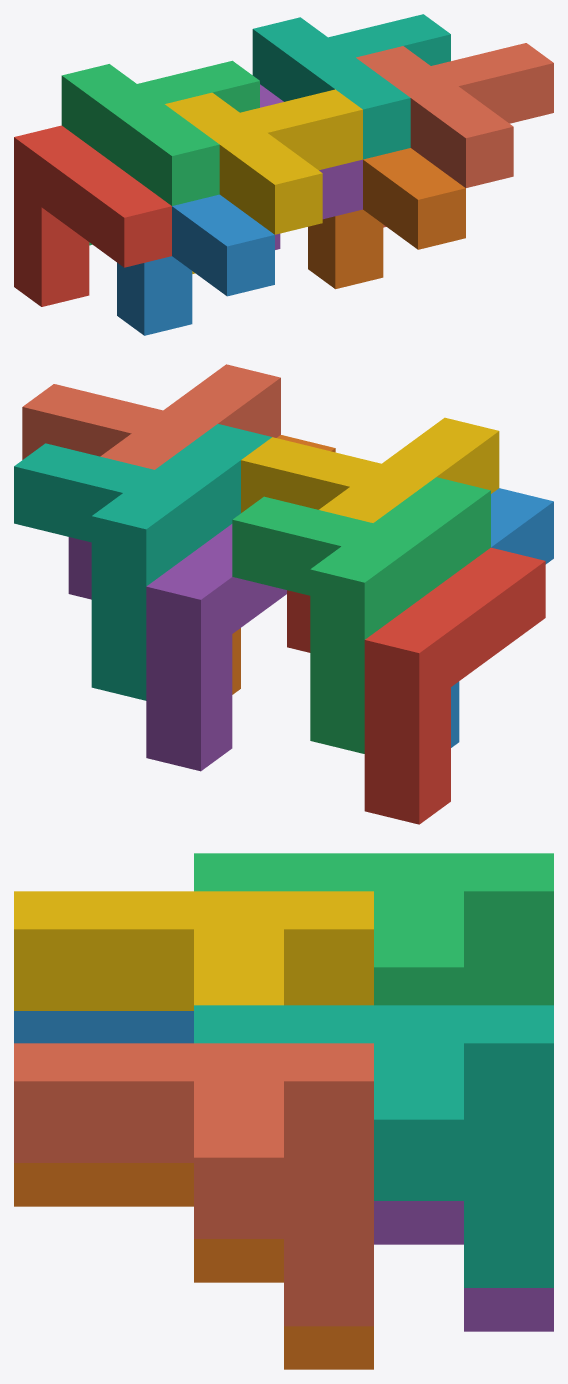
File: tiling.obj
3 renders of one model, top to bottom at view 1: azimuth 30°, elevation 25°; view 2: azimuth 150°, elevation 25°; view 3: azimuth 270°, elevation 25°, orthographic. The views are drawn at different scales.
Visible parts, largest first — view 1: copy_1_domain_1, copy_1_domain_3, copy_1_domain_8, copy_1_domain_4, copy_1_domain_7, copy_1_domain_2, copy_1_domain_6, copy_1_domain_5; view 2: copy_1_domain_3, copy_1_domain_7, copy_1_domain_1, copy_1_domain_5, copy_1_domain_4, copy_1_domain_8, copy_1_domain_2, copy_1_domain_6; view 3: copy_1_domain_8, copy_1_domain_7, copy_1_domain_4, copy_1_domain_3, copy_1_domain_6, copy_1_domain_5, copy_1_domain_2.
Part boxes in pixels (x1,y1,x2,y2): copy_1_domain_1: (14,125,171,306); copy_1_domain_3: (61,60,259,245); copy_1_domain_8: (356,43,553,227); copy_1_domain_4: (165,89,362,273); copy_1_domain_7: (252,14,450,159); copy_1_domain_2: (117,194,274,335); copy_1_domain_6: (308,148,465,289); copy_1_domain_5: (260,84,362,249); copy_1_domain_3: (232,477,490,753); copy_1_domain_7: (14,424,271,700); copy_1_domain_1: (287,547,545,824); copy_1_domain_5: (68,524,286,771); copy_1_domain_4: (241,417,499,522); copy_1_domain_8: (22,364,280,469); copy_1_domain_2: (451,488,553,747); copy_1_domain_6: (232,435,335,694); copy_1_domain_8: (14,1043,373,1326); copy_1_domain_7: (194,1005,553,1287); copy_1_domain_4: (14,891,373,1010); copy_1_domain_3: (194,853,553,1005); copy_1_domain_6: (14,1163,373,1369); copy_1_domain_5: (374,1201,553,1331); copy_1_domain_2: (14,1011,193,1043).
Bounding box in the file's own units: 9 × 4 × 6.
